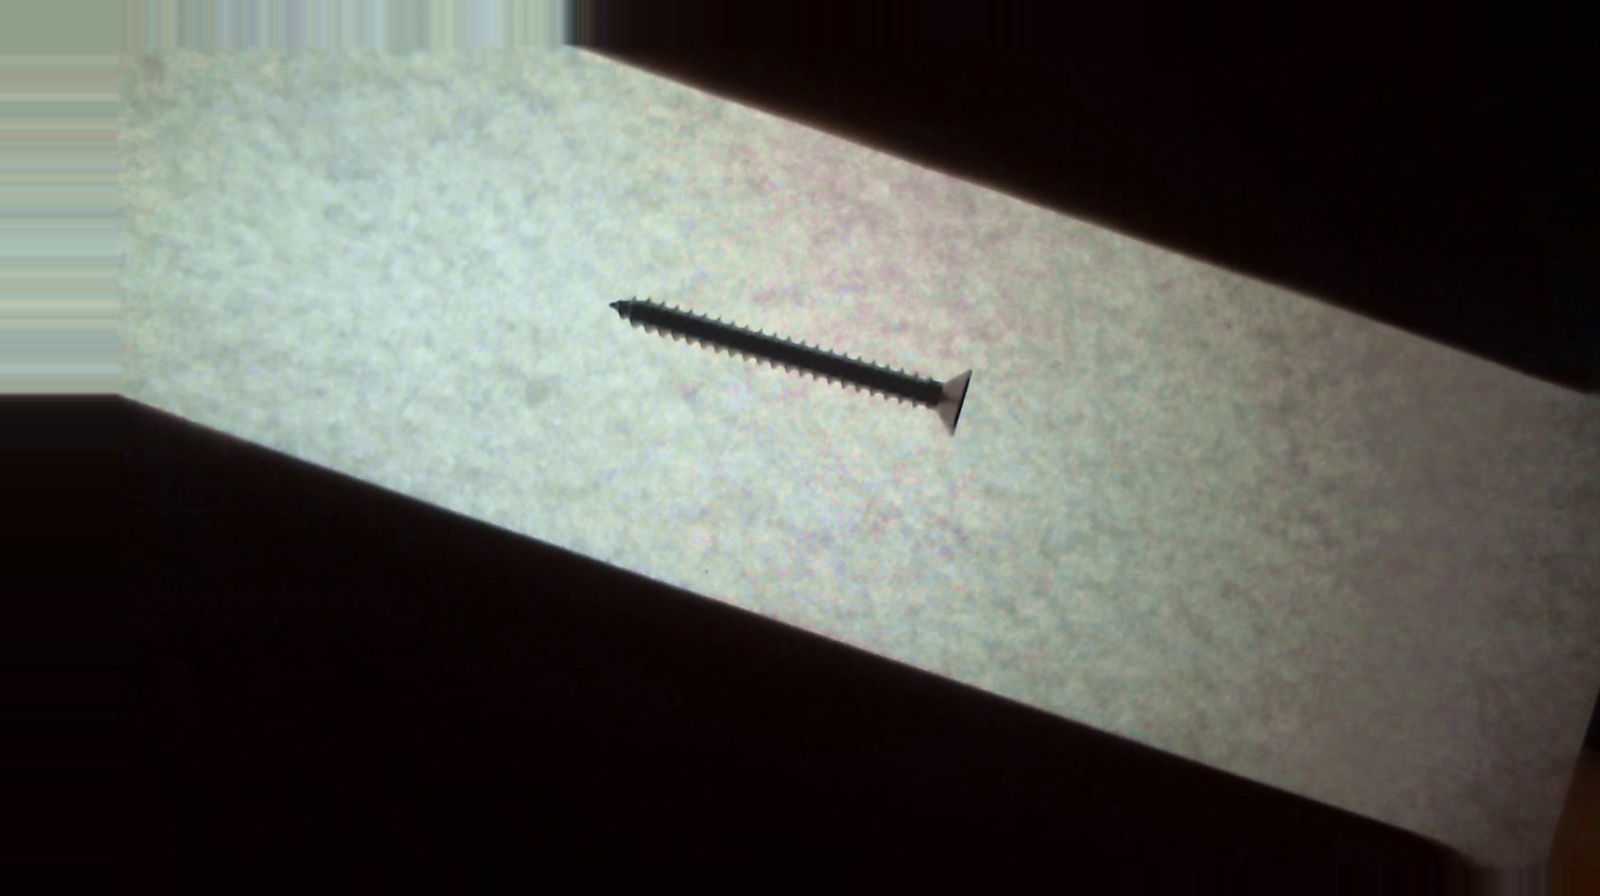S002: (597, 280, 976, 446)
